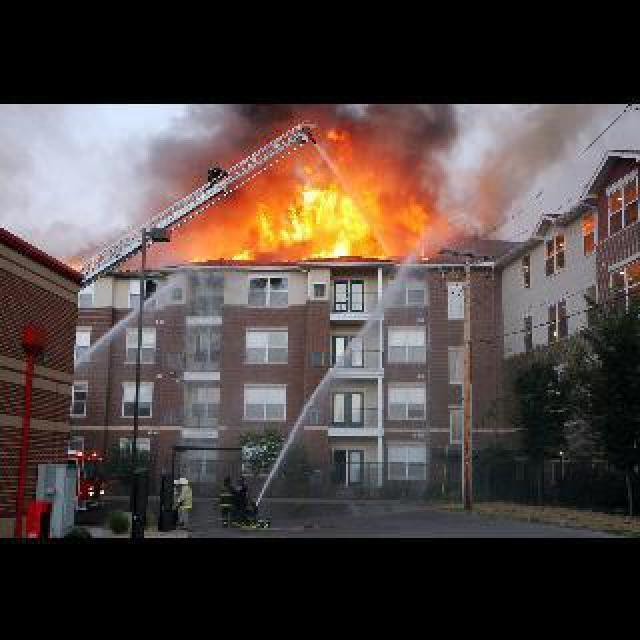Fire: (218, 118, 448, 262)
Smoke: (458, 108, 580, 236)
